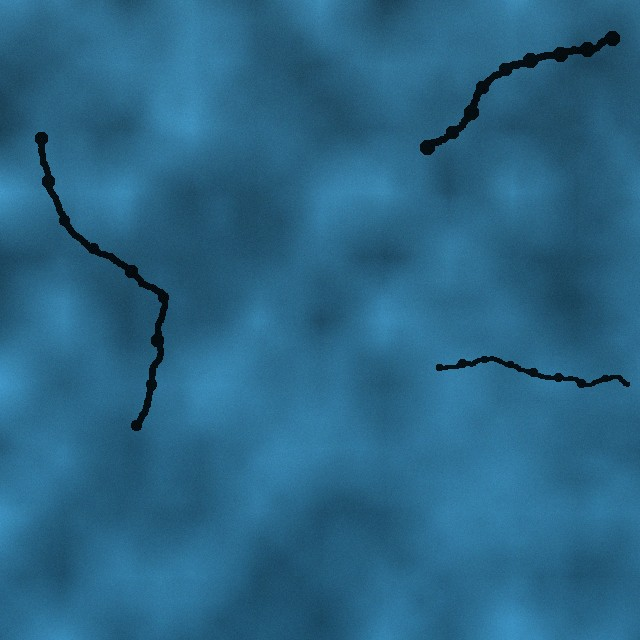crack: (34, 132, 170, 434), (419, 30, 619, 155), (435, 353, 632, 388)
